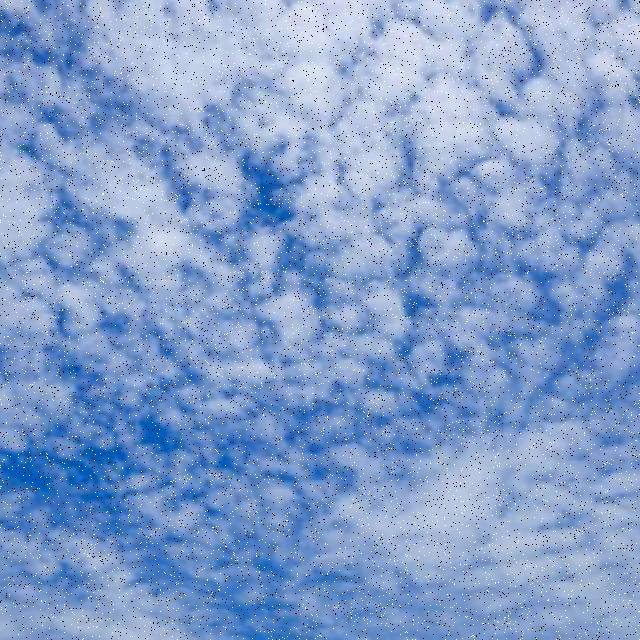Cc: (1, 15, 640, 617)
